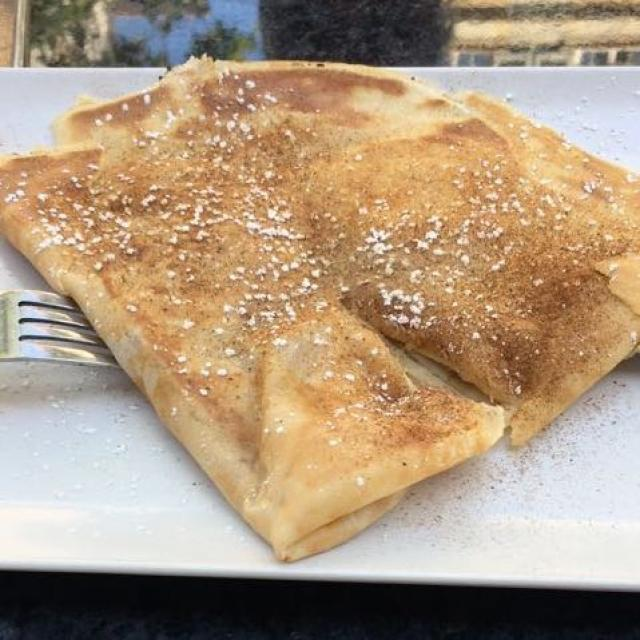crepe: (17, 69, 633, 539)
